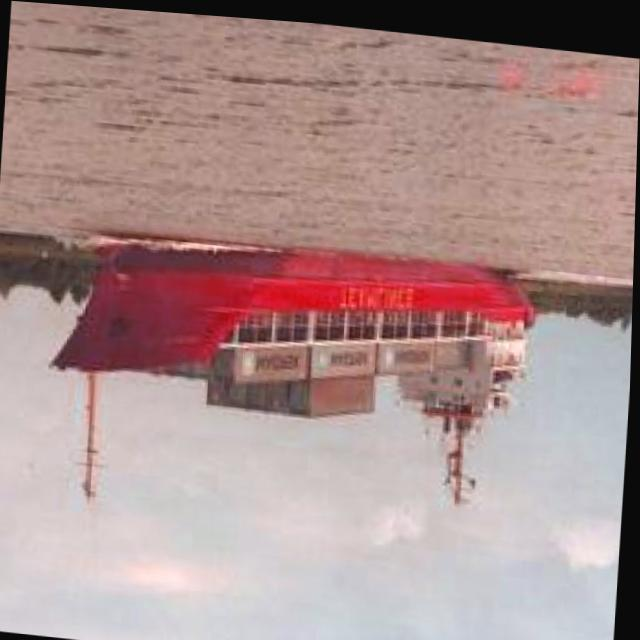ship2: (50, 234, 540, 502)
